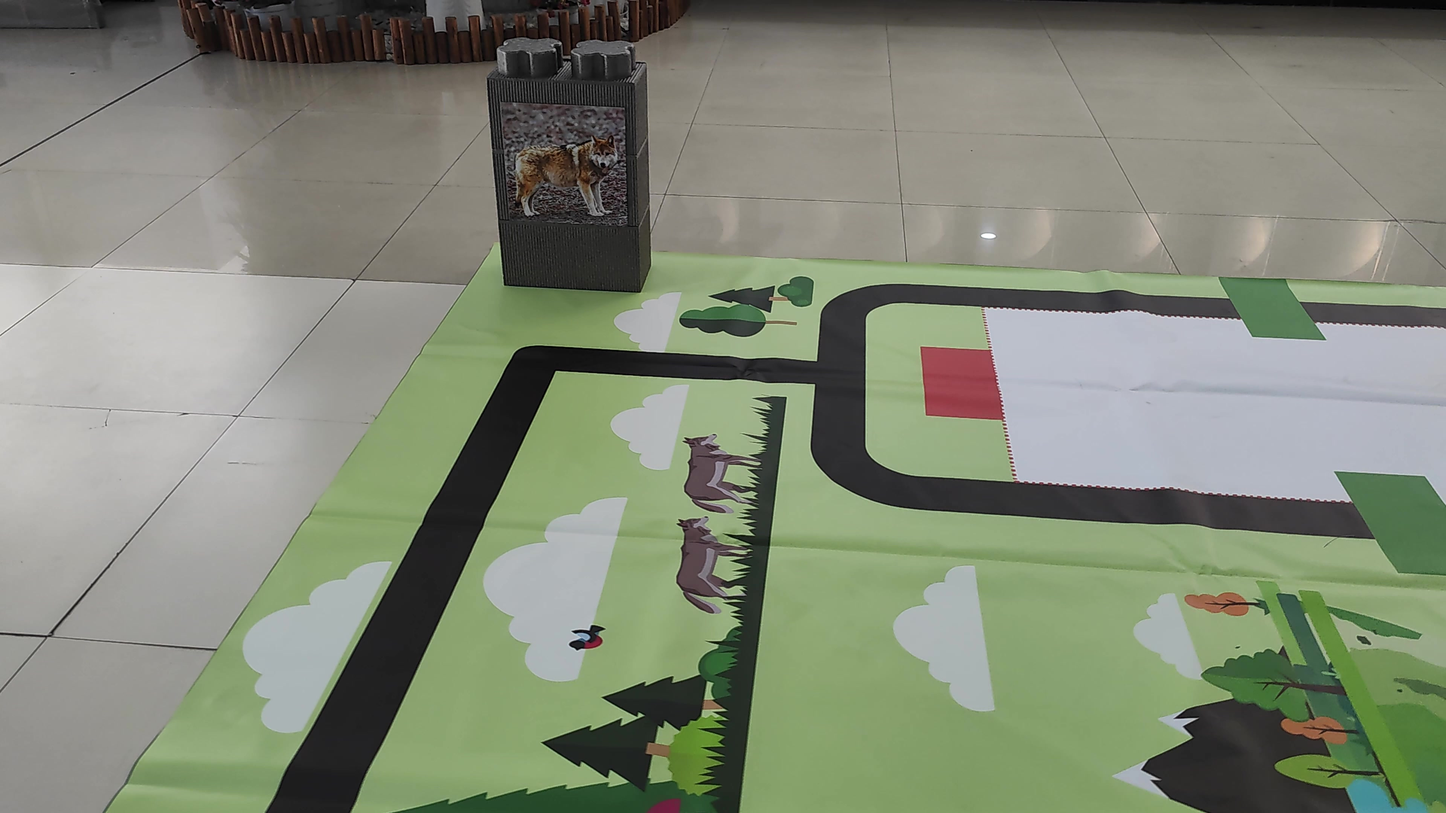wolf: (502, 117, 629, 221)
